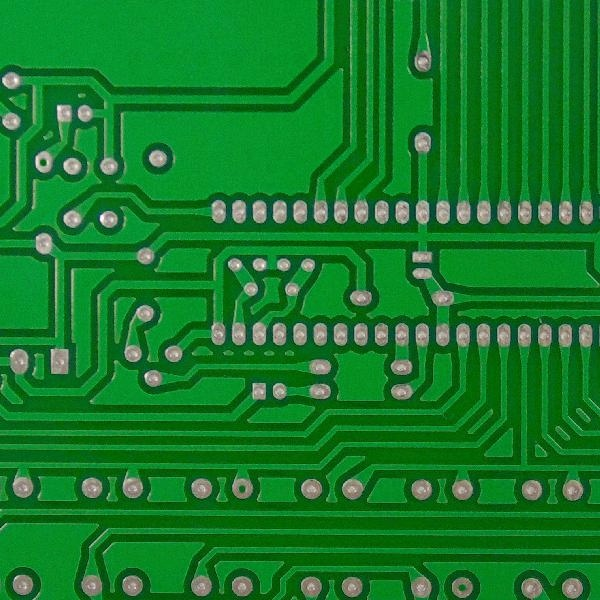missing_hole: (451, 573, 474, 599), (232, 478, 253, 500), (34, 152, 54, 174)
